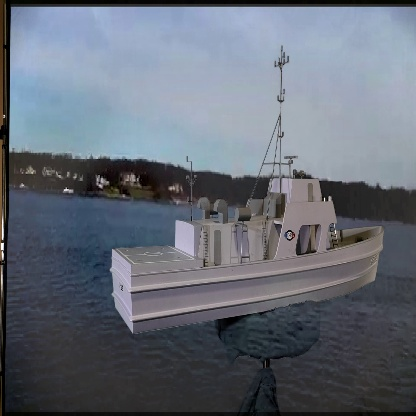YP689: (108, 43, 386, 337)
